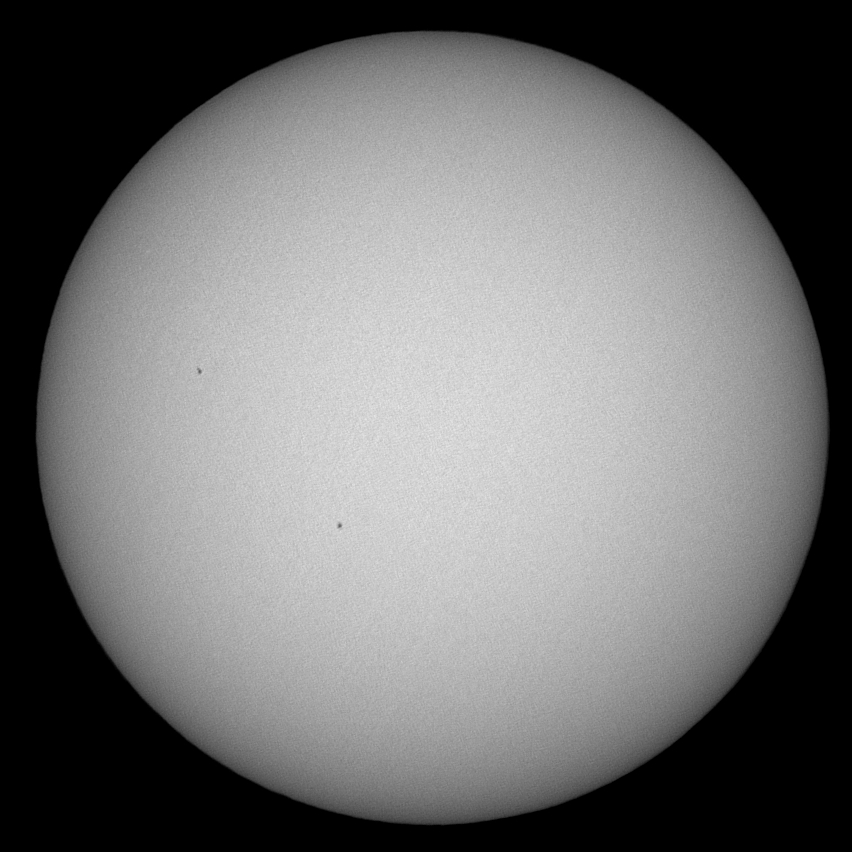sunspot: (331, 516, 348, 535), (191, 361, 207, 376)
